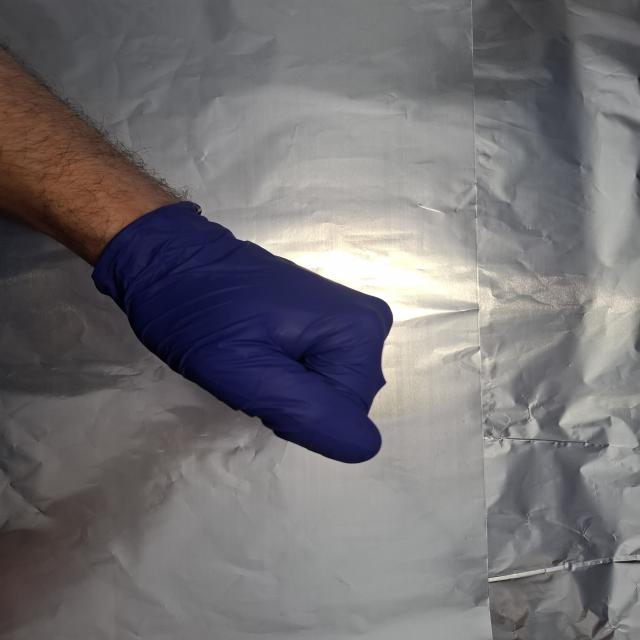glove_on: (92, 198, 396, 468)
